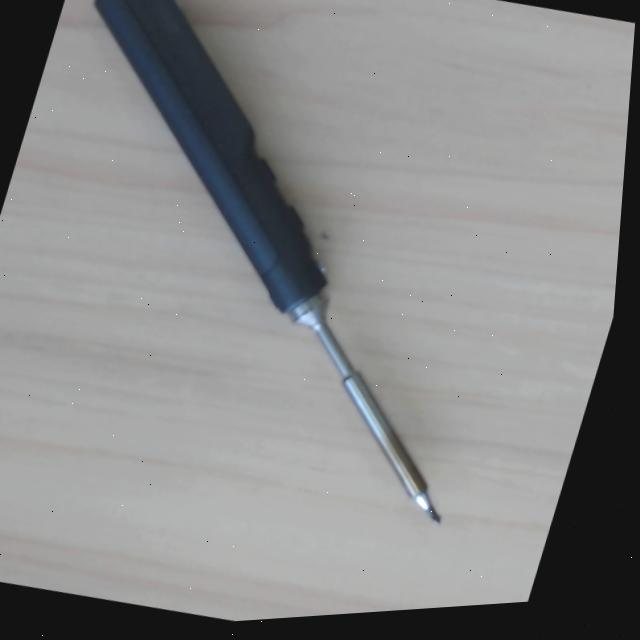Soldering-Iron: (385, 458, 393, 466)
